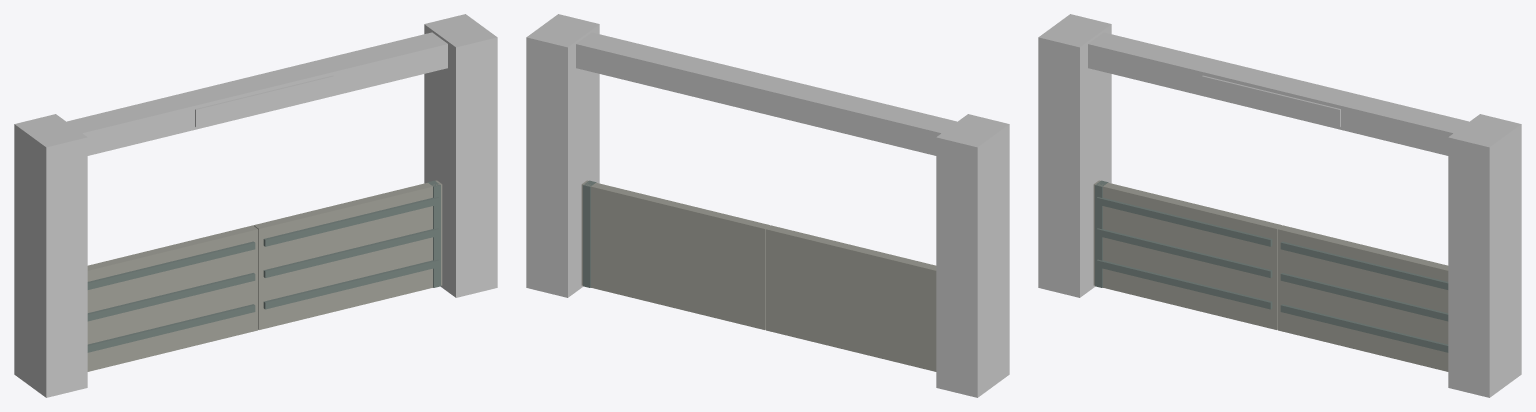
The model's file is SM_PuertaVehiculos_Castellon_v4_LOD0.fbx.
3 renders of one model, left to right at view 1: azimuth 30°, elevation 25°; view 2: azimuth 150°, elevation 25°; view 3: azimuth 330°, elevation 25°, orthographic.
Parts seen in each view (by area): view 1: SM_bloques.puerta_vehiculos_v4_LOD0, Hoja_E, Hoja_O; view 2: SM_bloques.puerta_vehiculos_v4_LOD0, Hoja_E, Hoja_O; view 3: SM_bloques.puerta_vehiculos_v4_LOD0, Hoja_O, Hoja_E.
Boxes of the visible parts, box(x1,y1,x2,y2) form: SM_bloques.puerta_vehiculos_v4_LOD0: box(14, 14, 497, 397); Hoja_E: box(253, 180, 442, 329); Hoja_O: box(87, 225, 258, 371); SM_bloques.puerta_vehiculos_v4_LOD0: box(526, 14, 1009, 397); Hoja_E: box(581, 180, 770, 329); Hoja_O: box(765, 225, 936, 371); SM_bloques.puerta_vehiculos_v4_LOD0: box(1038, 14, 1521, 397); Hoja_O: box(1093, 180, 1282, 329); Hoja_E: box(1277, 225, 1448, 371).
Bounding box in the file's own units: 9.8 × 5.2 × 1.2.
